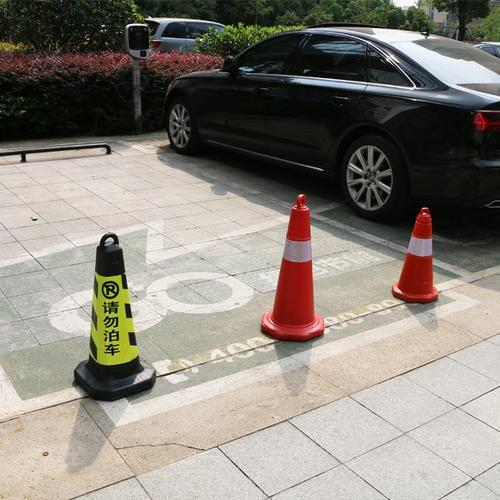cone_barrel: (69, 232, 153, 401), (256, 193, 329, 343), (386, 205, 442, 305)
